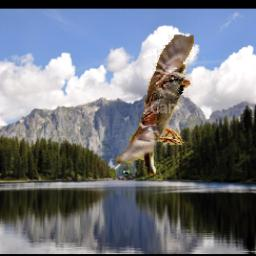Sparrow: (114, 35, 195, 176)
